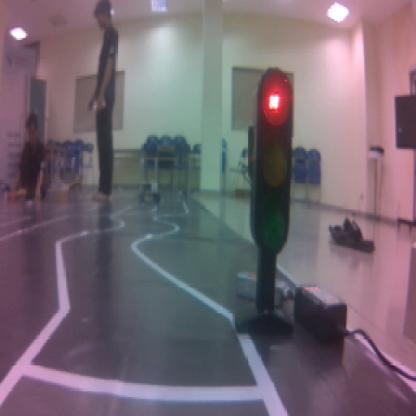building map: (263, 76, 290, 125)
